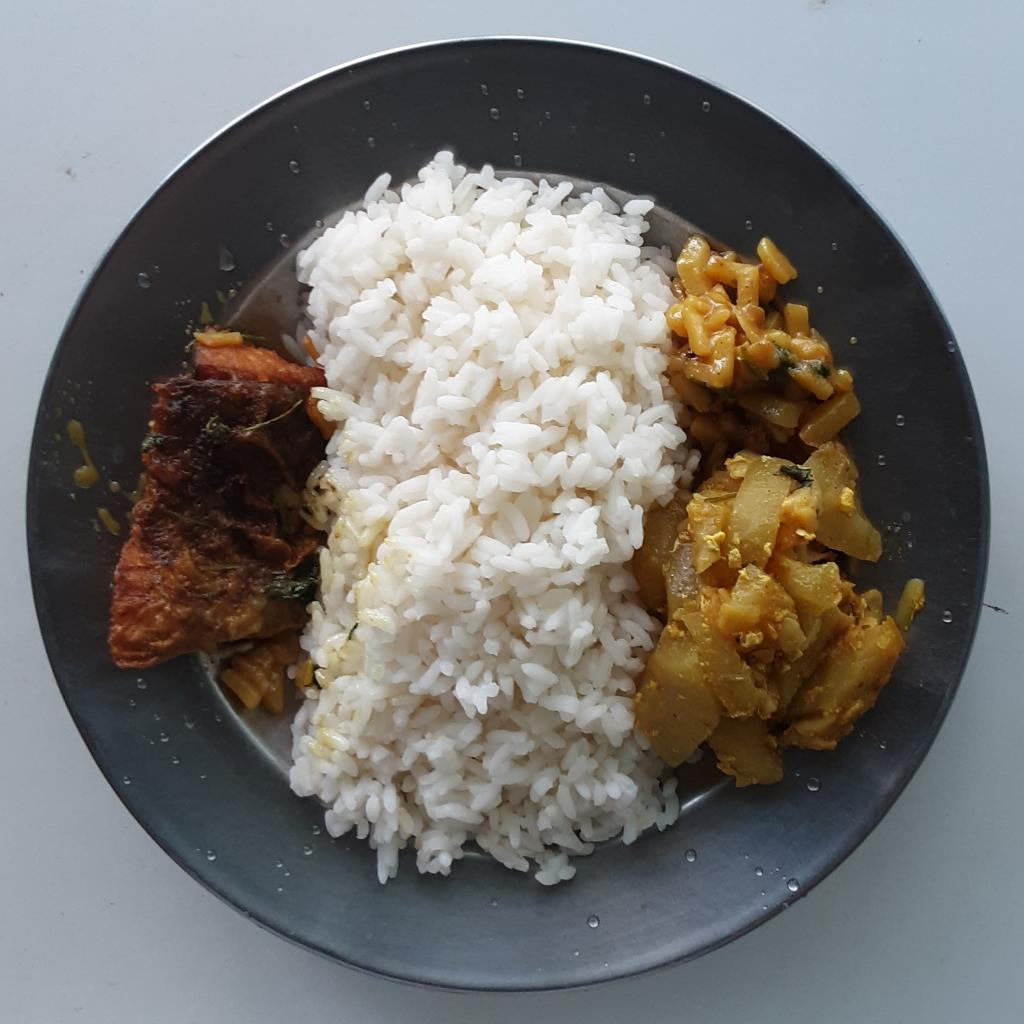fish: (103, 334, 335, 716)
kumra-vaji: (634, 442, 926, 789)
potato: (663, 227, 863, 471)
rice: (281, 150, 713, 884)
